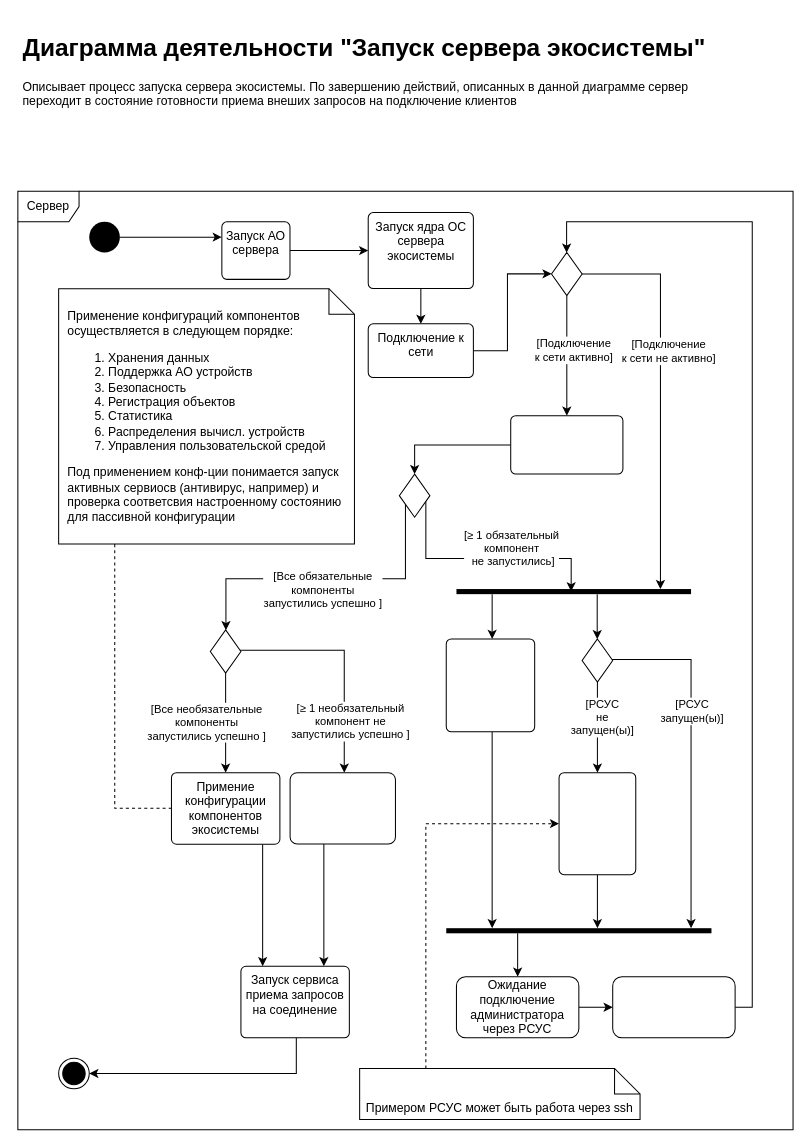
This 811x1148 diagram has some shape labels left out. Here are the shapes that lost their labels. From the top down, the centre of each, then its label:
At (566,444): "Запуск компонентов экосистемы".
At (490,685): "Сбор журналов запуска сервера экосистемы".
At (342,808): "Перевод сервера в режим аварийной работы".
At (597,823): "Запуск резервных способов управления сервером (РСУС)".
At (673,1007): "Попытка восстановления работоспособности сервера экосистемы".
